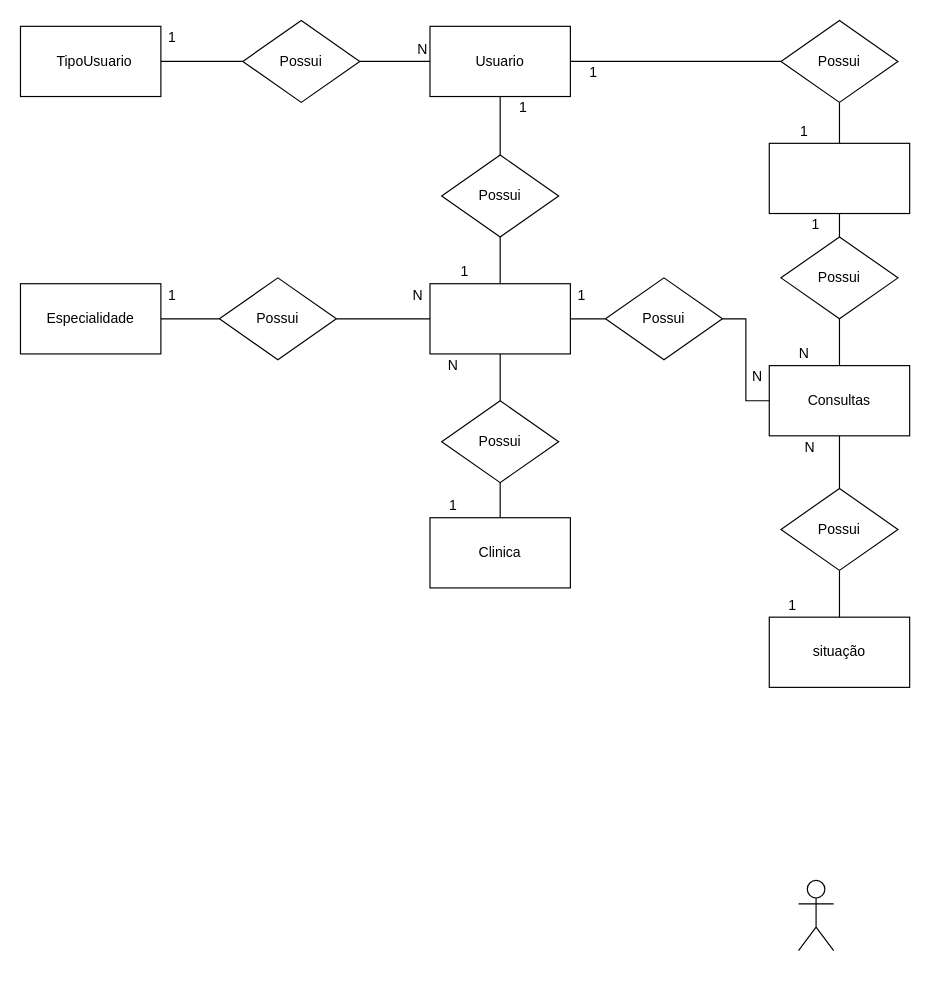
Some shapes in this 930 by 996 pixel diagram are drawn without their labels. Here are the shapes that lost their labels. From the top down, the centre of each, then its label:
At (x=839, y=178): "Paciente".
At (x=499, y=318): "Medico".
At (x=815, y=915): "Actor".
